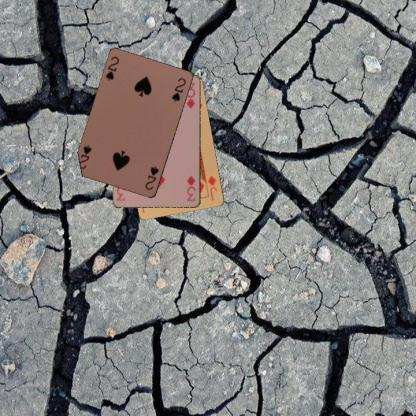2s: (143, 164, 160, 191), (103, 54, 120, 81)
3d: (184, 174, 197, 202)
Jd: (205, 173, 219, 202)
